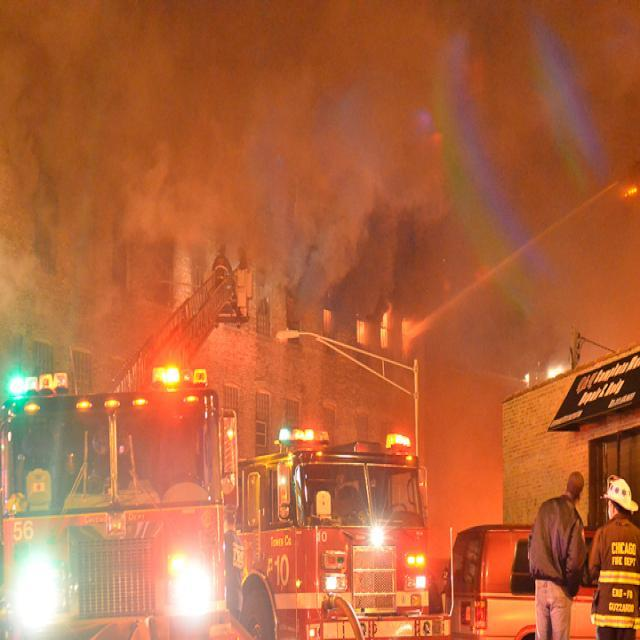Fire: (149, 362, 190, 388)
